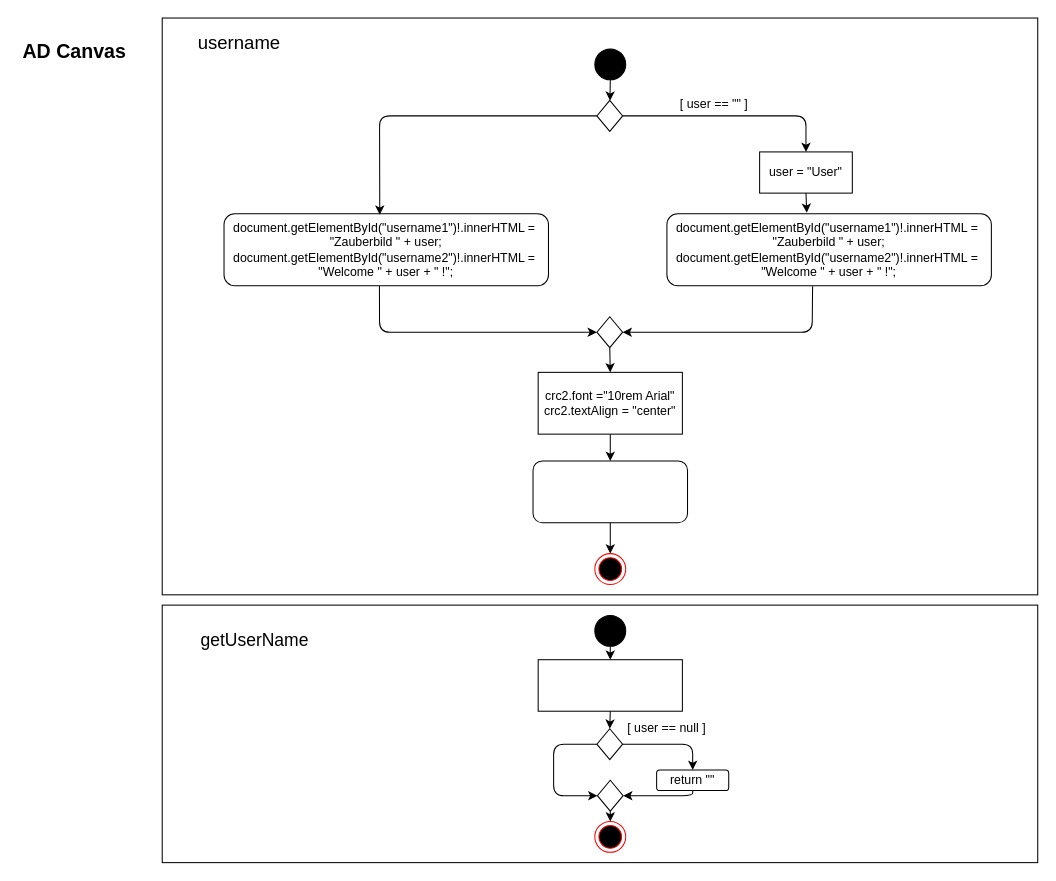
This 1056x881 diagram has some shape labels left out. The shapes that lost their labels are listed below. From the top down, each one's centre as x and y in pixels, then its label:
(610,491): crc2.strokeText(user, canvaswidth / 2, canvasheight / 2);
(609,685): let user = prompt("Please enter your username:", "Username"
